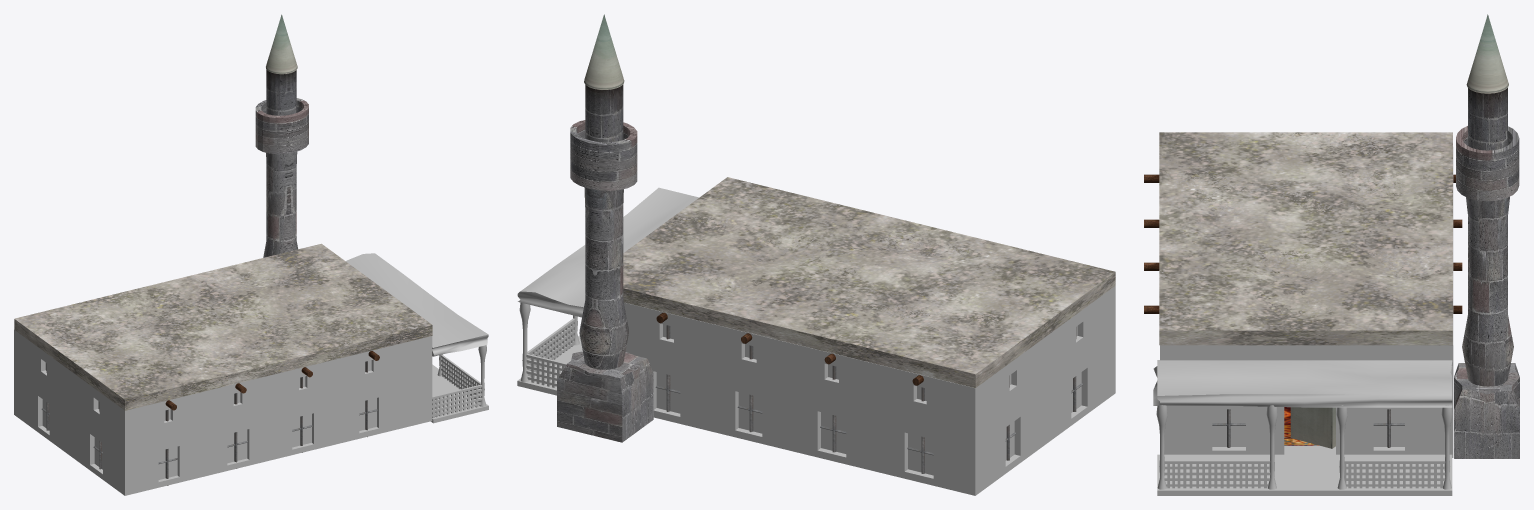
The model's file is EvAkif.fbx.
The picture shows the model from 3 angles, left to right: view 1: azimuth 30°, elevation 25°; view 2: azimuth 150°, elevation 25°; view 3: azimuth 270°, elevation 25°; orthographic projection. The views are drawn at different scales.
Visible parts, largest first — view 1: Evcati, Evdis, polySurface75, Giris_cati, Camlardemirli, Korkuluk; view 2: Evcati, Evdis, polySurface75, Camlardemirli, Giris_cati, Korkuluk; view 3: Evcati, polySurface75, Giris_cati, Korkuluk, Evdis, Camlardemirli, Kapi, Catitahta.
Boxes of the visible parts, left/top/right/bottom form: Evcati: left=14, top=243, right=432, bottom=410; Evdis: left=14, top=330, right=432, bottom=495; polySurface75: left=255, top=14, right=308, bottom=257; Giris_cati: left=346, top=253, right=488, bottom=356; Camlardemirli: left=41, top=360, right=377, bottom=485; Korkuluk: left=431, top=345, right=488, bottom=423; Evcati: left=623, top=177, right=1115, bottom=387; Evdis: left=624, top=286, right=1115, bottom=495; polySurface75: left=557, top=14, right=653, bottom=442; Camlardemirli: left=655, top=324, right=1083, bottom=475; Giris_cati: left=517, top=187, right=698, bottom=317; Korkuluk: left=517, top=302, right=582, bottom=395; Evcati: left=1159, top=132, right=1452, bottom=345; polySurface75: left=1454, top=14, right=1519, bottom=458; Giris_cati: left=1153, top=360, right=1452, bottom=407; Korkuluk: left=1156, top=405, right=1452, bottom=495; Evdis: left=1160, top=147, right=1453, bottom=457; Camlardemirli: left=1212, top=409, right=1404, bottom=447; Kapi: left=1290, top=407, right=1335, bottom=448; Catitahta: left=1144, top=174, right=1462, bottom=313.
Size of the model in its own units: 18.89 by 16.26 by 12.8.
